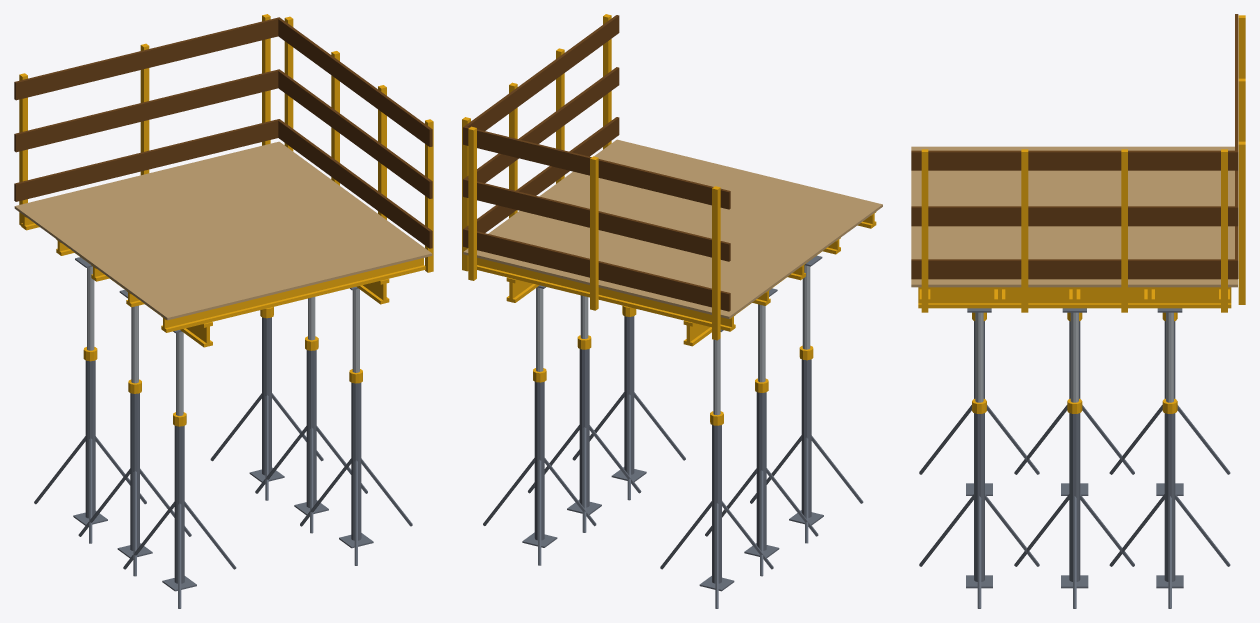
The model's file is plant.temporary.table_form_small.glb.
3 views of the same model, side by side, from view 1: azimuth 30°, elevation 25°; view 2: azimuth 150°, elevation 25°; view 3: azimuth 270°, elevation 25° (orthographic). The views are drawn at different scales.
Visible parts, largest first — view 1: main__plywood, edge__ply_brown, props__steel_painted, edge__plant_yellow, main__plant_yellow, props__steel_galvanised, props__plant_yellow; view 2: main__plywood, edge__ply_brown, props__steel_painted, edge__plant_yellow, main__plant_yellow, props__steel_galvanised, props__plant_yellow; view 3: main__plywood, edge__ply_brown, props__steel_painted, edge__plant_yellow, main__plant_yellow, props__steel_galvanised, props__plant_yellow.
Part boxes in pixels (x1,y1,x2,y2): main__plywood: (14, 141, 432, 320); edge__ply_brown: (14, 17, 432, 248); props__steel_painted: (34, 257, 412, 608); edge__plant_yellow: (19, 14, 433, 272); main__plant_yellow: (21, 214, 425, 347); props__steel_galvanised: (87, 266, 359, 415); props__plant_yellow: (83, 307, 362, 426); main__plywood: (463, 139, 882, 318); edge__ply_brown: (463, 15, 730, 311); props__steel_painted: (483, 255, 863, 608); edge__plant_yellow: (462, 14, 720, 340); main__plant_yellow: (477, 212, 876, 346); props__steel_galvanised: (536, 265, 810, 415); props__plant_yellow: (533, 305, 813, 425); main__plywood: (911, 146, 1237, 287); edge__ply_brown: (911, 14, 1238, 279); props__steel_painted: (919, 308, 1230, 608); edge__plant_yellow: (921, 15, 1245, 312); main__plant_yellow: (918, 287, 1231, 308); props__steel_galvanised: (975, 312, 1173, 402); props__plant_yellow: (972, 312, 1177, 413).
Size of the model in its own units: 2.51 by 3.7 by 2.46.
